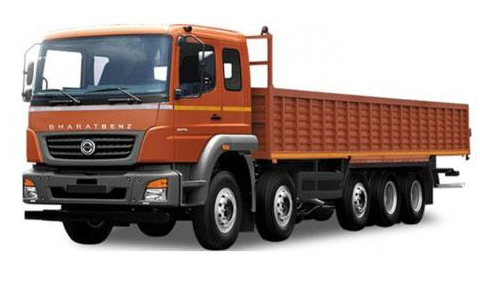truck: (12, 9, 473, 261)
